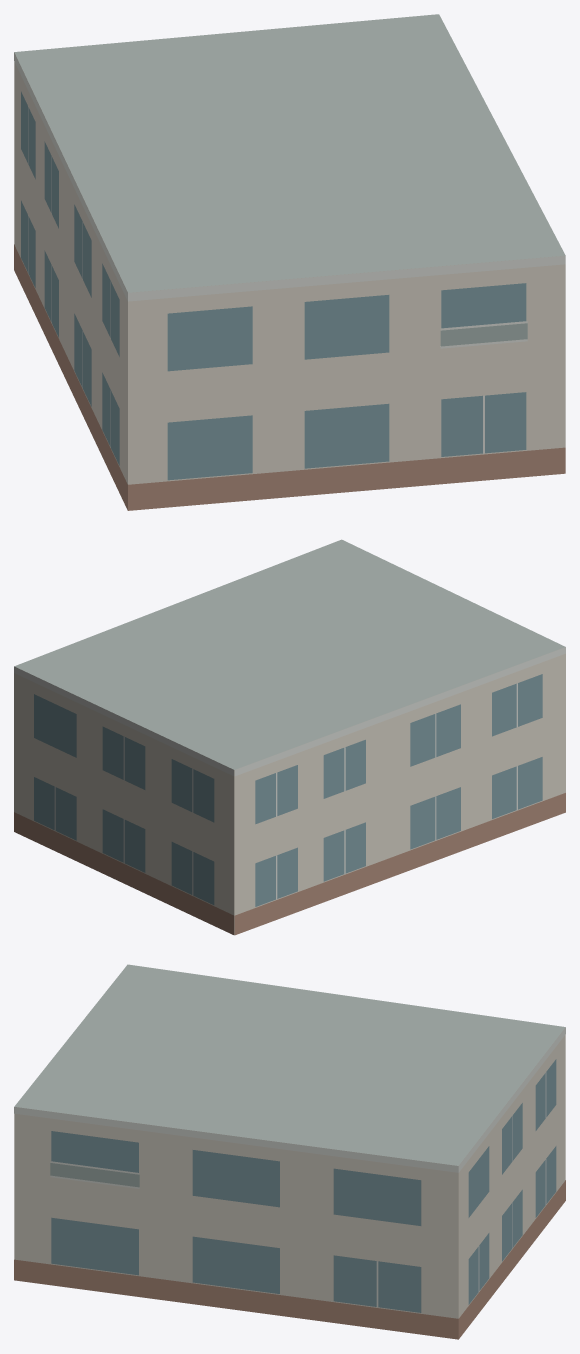
Rendered from survey-upis-32710340.glb.
3 views of the same model, one above another, from view 1: azimuth 30°, elevation 25°; view 2: azimuth 150°, elevation 25°; view 3: azimuth 270°, elevation 25° (orthographic). The views are drawn at different scales.
Visible parts, largest first — view 1: survey-upis-32710340.tmp; view 2: survey-upis-32710340.tmp; view 3: survey-upis-32710340.tmp.
Boxes of the visible parts, x1,y1,x2,y2 form: survey-upis-32710340.tmp: (14, 14, 565, 510); survey-upis-32710340.tmp: (14, 539, 565, 935); survey-upis-32710340.tmp: (14, 964, 565, 1339).
Size of the model in its own units: 15.21 by 6.1 by 17.59.
